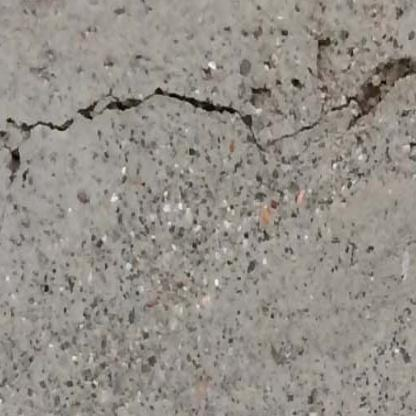Cracks: (4, 84, 325, 156), (328, 55, 416, 134), (0, 141, 26, 189)
